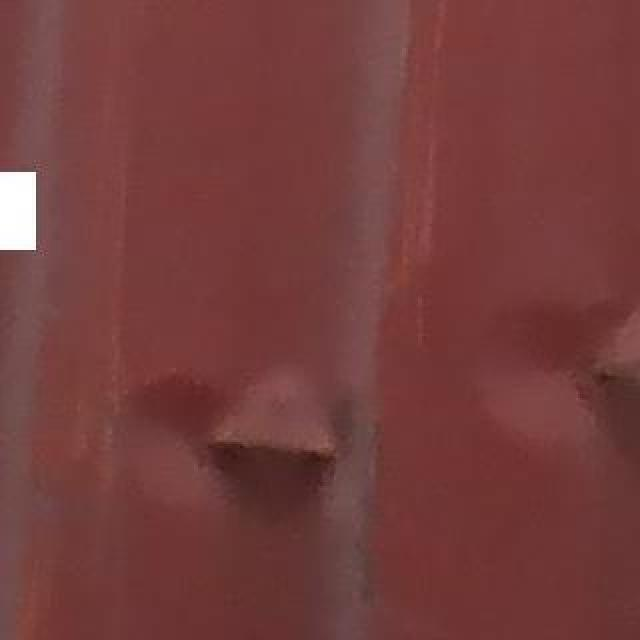dent: (45, 271, 640, 507)
